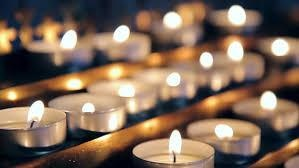fire: (164, 126, 183, 157), (25, 98, 44, 127)
